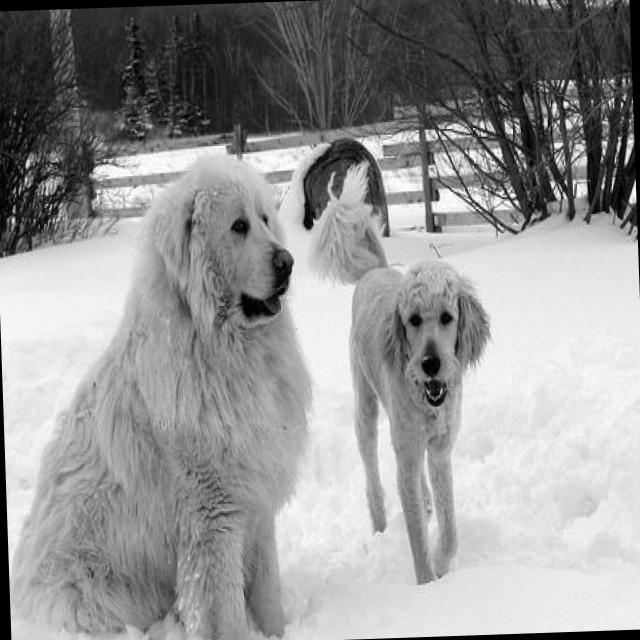sitting: (0, 156, 325, 640)
